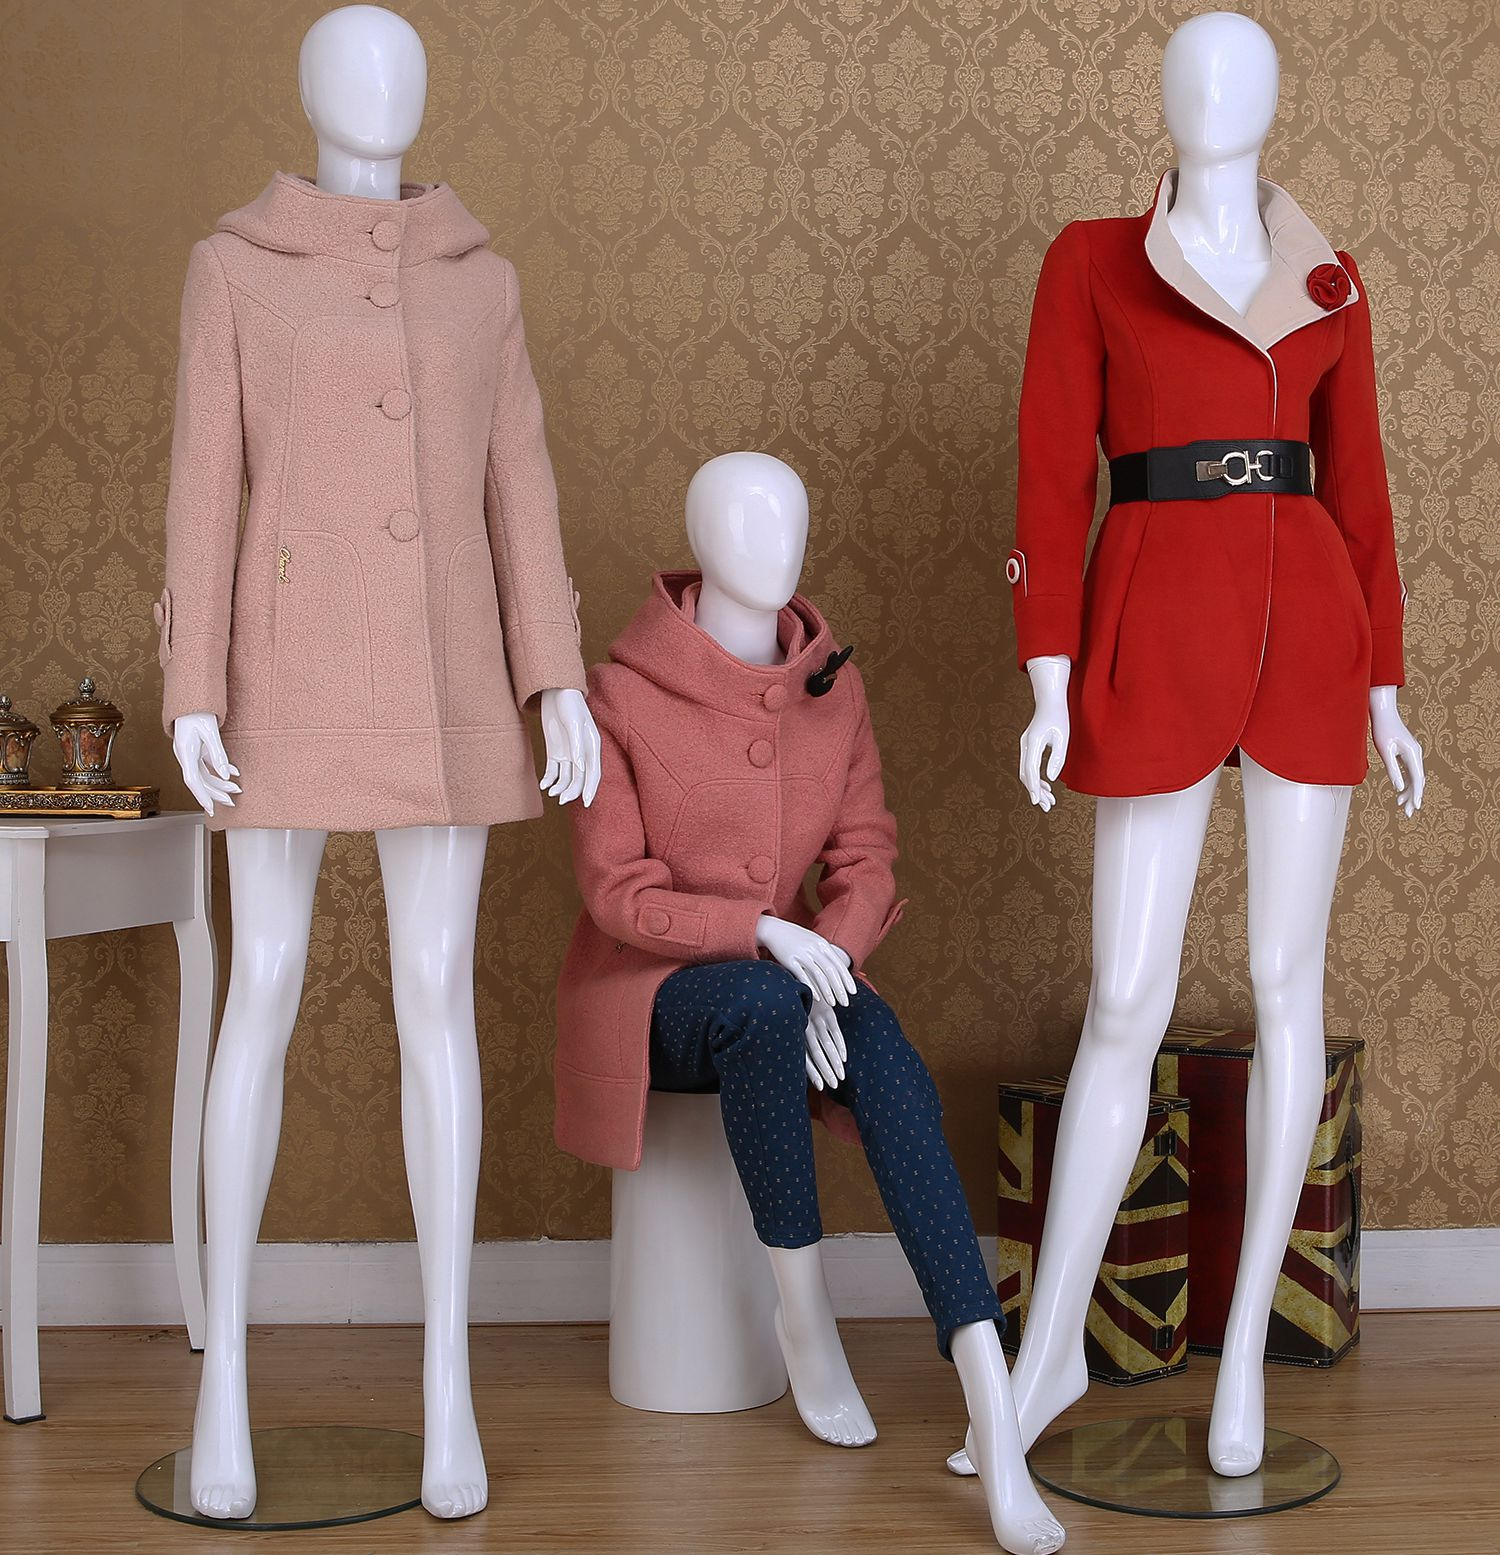person-like: (929, 3, 1436, 1494), (143, 1, 611, 1535), (541, 438, 1074, 1555)
